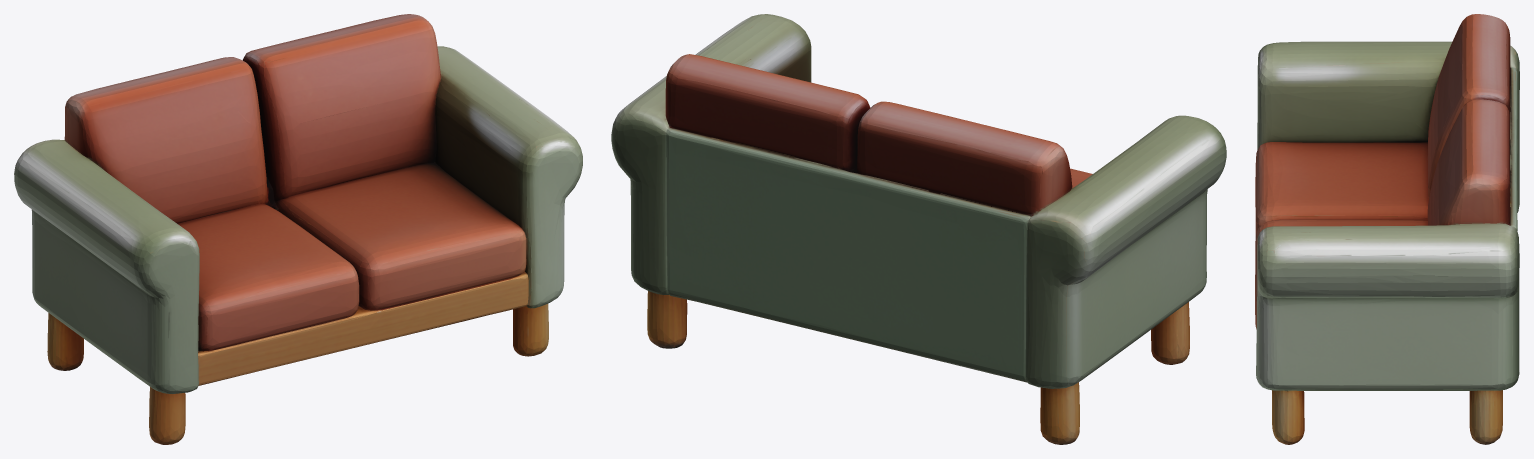
File: sofa.glb
3 renders of one model, left to right at view 1: azimuth 30°, elevation 25°; view 2: azimuth 150°, elevation 25°; view 3: azimuth 270°, elevation 25°, orthographic. The views are drawn at different scales.
Parts seen in each view (by area): view 1: geometry_0; view 2: geometry_0; view 3: geometry_0.
Boxes of the visible parts, x1,y1,x2,y2 form: geometry_0: [14, 14, 582, 444]; geometry_0: [611, 14, 1226, 444]; geometry_0: [1255, 14, 1519, 444].
Size of the model in its own units: 1 by 0.5759 by 0.5267.
1 material, 1 textured.
